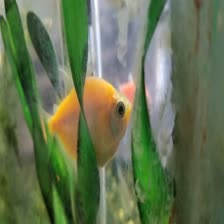Plano: (31, 71, 132, 162)
